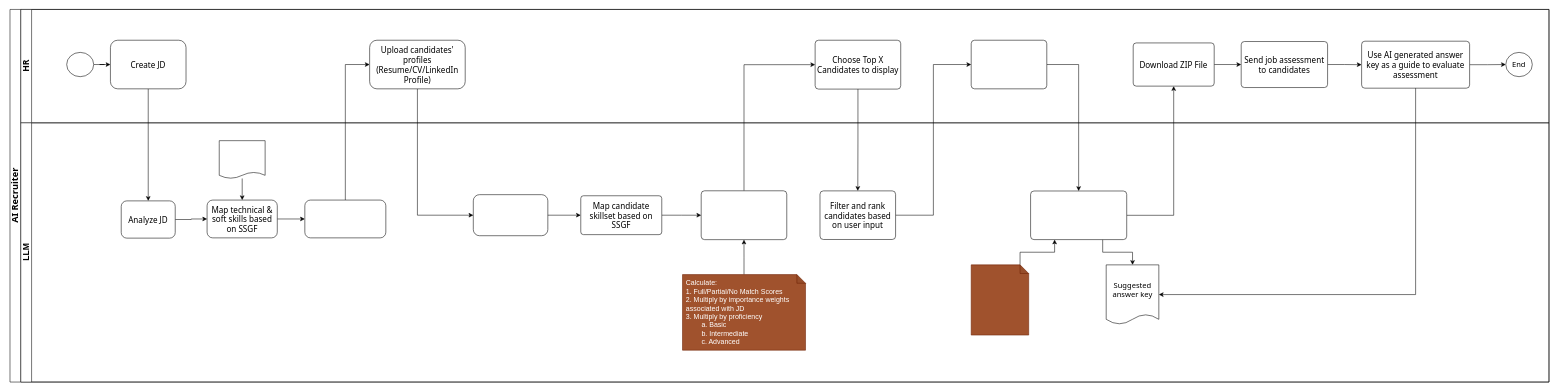
The diagram is 1558 pixels wide and 392 high, and some of its shapes have lost their labels. The centre of each missing label's shape, as x and y in pixels:
"1. Use a JD-Driven Standardized Assessment for all candidates per job" belongs at point (1000, 299).
"Calculate job matching score for each candidate" belongs at point (744, 215).
"Create list of skills matched with JD" belongs at point (345, 219).
"Create tailored job assessment and suggested answer key" belongs at point (1078, 215).
"Parse info from Resume/CV" belongs at point (510, 215).
"Select to generate assessment" belongs at point (1009, 64).
"SkillsFuture Framework (SSGF)" belongs at point (242, 159).
"Start" belongs at point (80, 64).
